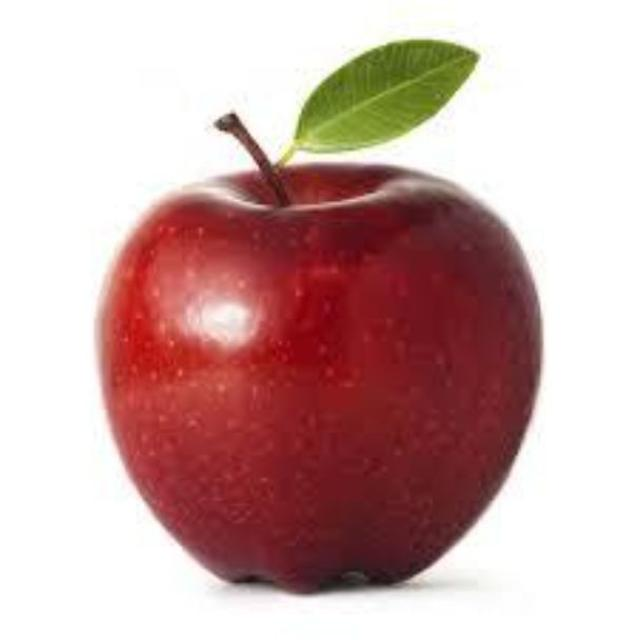Healty Apple: (66, 142, 566, 592)
